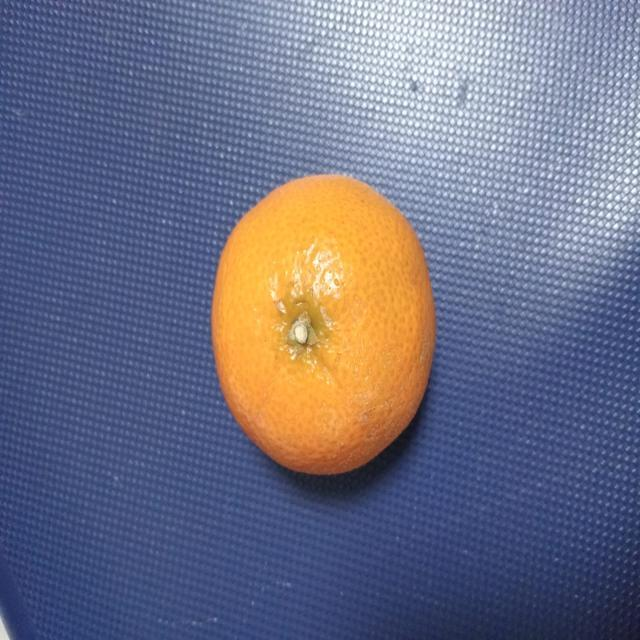Jeruk Mandarin: (208, 170, 438, 489)
